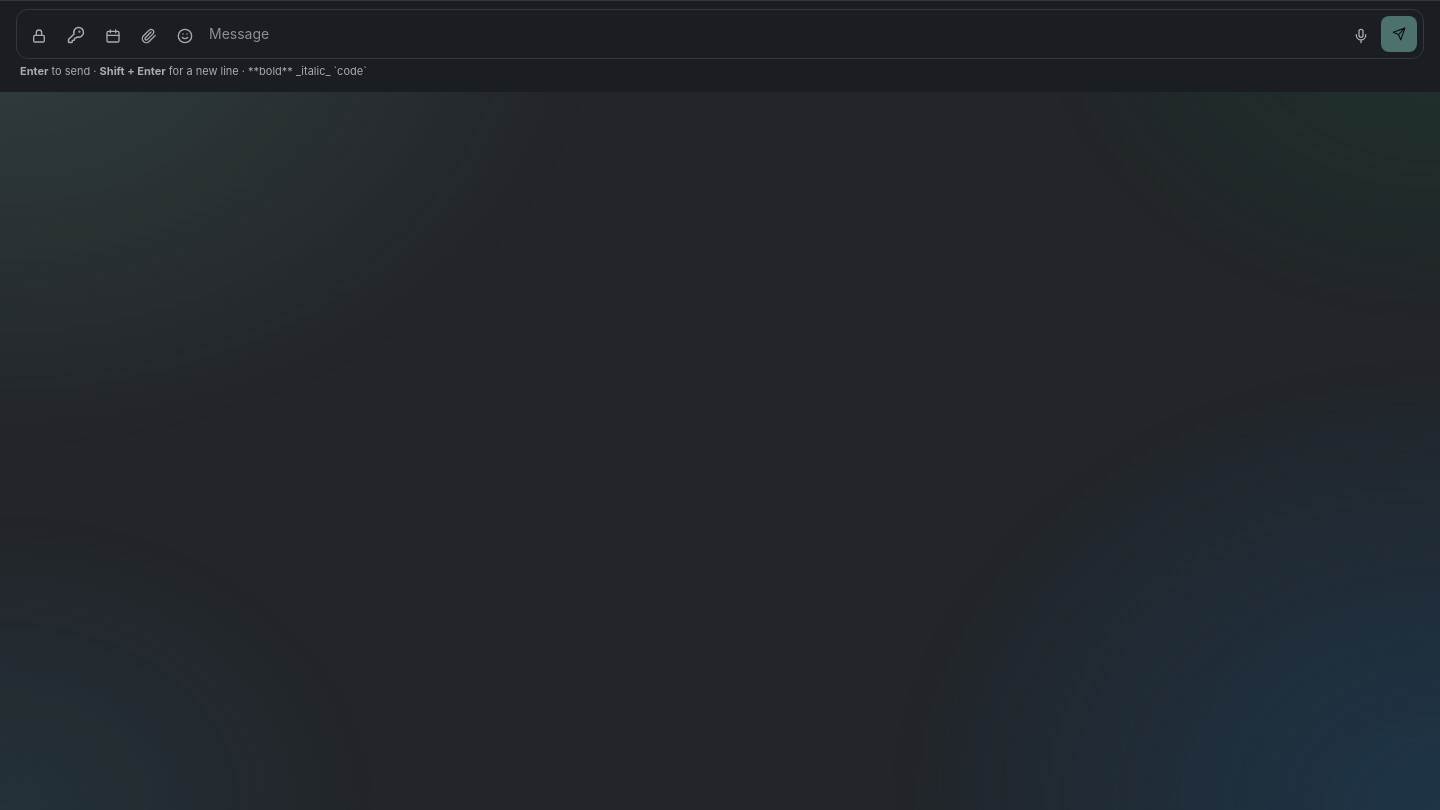
Test case: mentioning someone (Phase 56) › in a public channel, suggests the team, never an external
The width and height of the screenshot is (1440, 810).
Type "@" into the text box with placeholder "Message". click: (773, 34)
box: [205,16,1341,52]
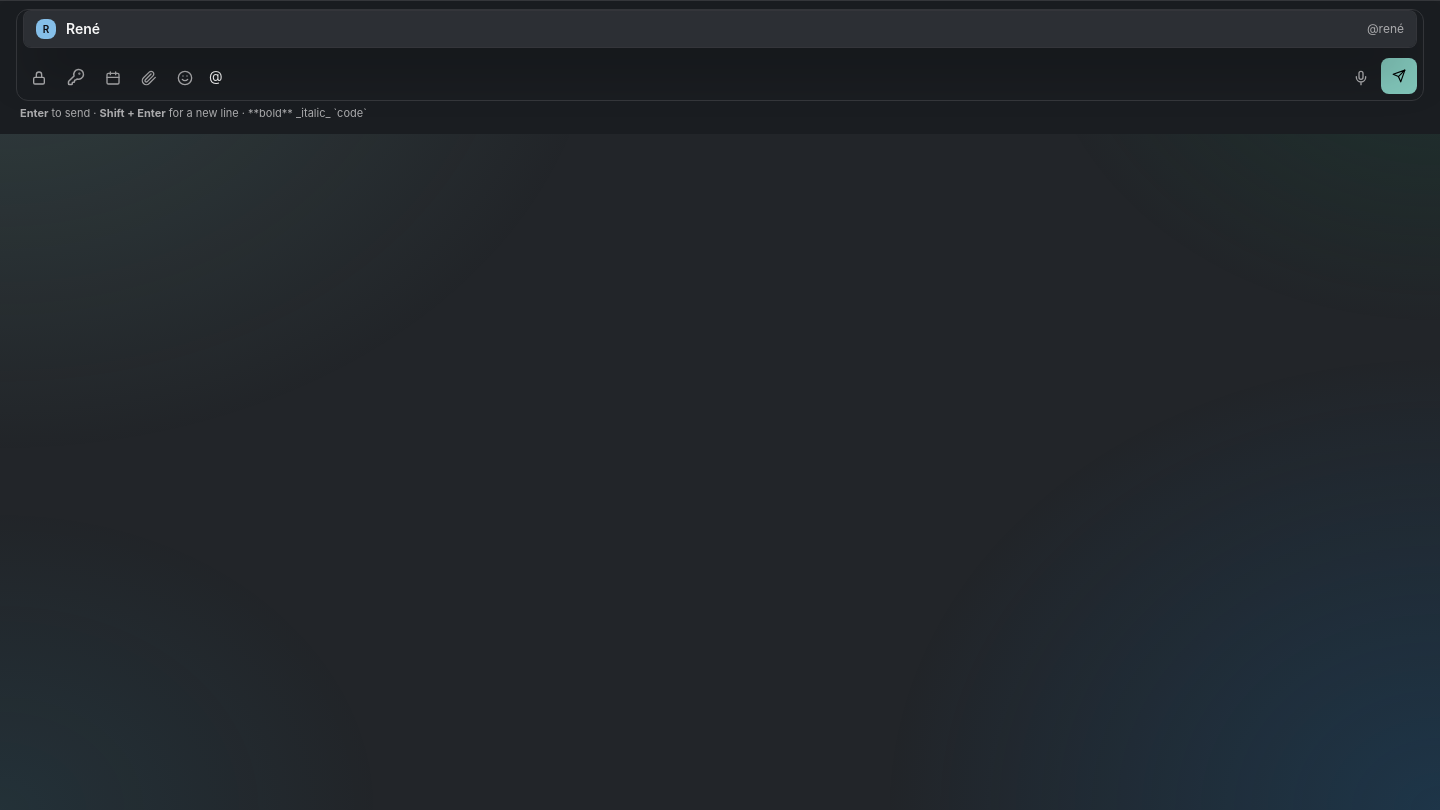
Expected: the list named "Mention someone" shows "René", [24,11,1416,47]
